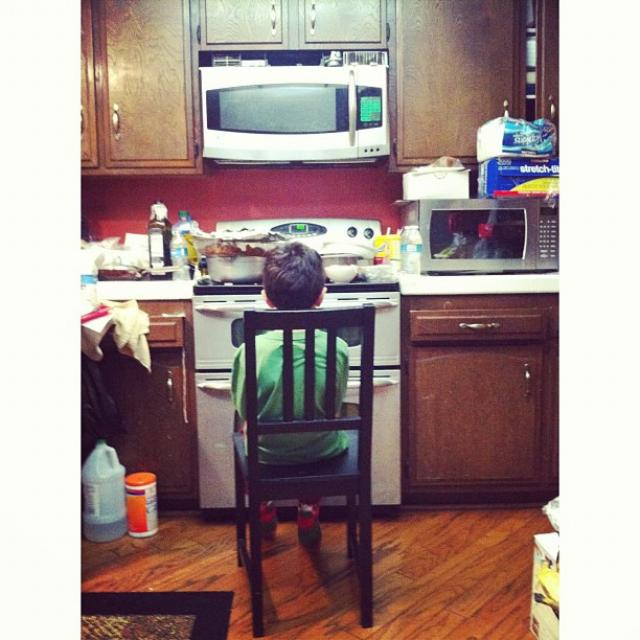chair: (231, 308, 376, 638)
dining table: (81, 592, 236, 640)
